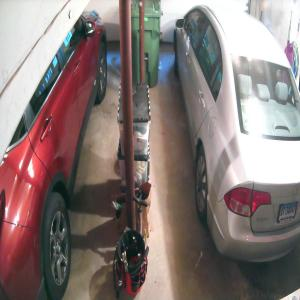garbage bin: (130, 0, 160, 87)
honda civic: (171, 0, 299, 261)
honda crv: (0, 8, 107, 300)
tool bucket: (113, 226, 149, 299)
